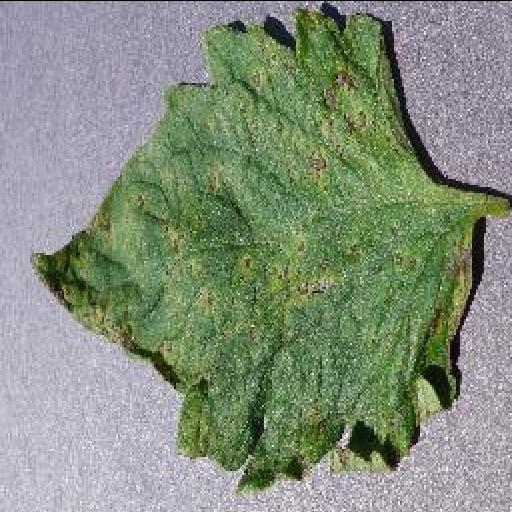disease_tomato: (32, 9, 474, 493)
